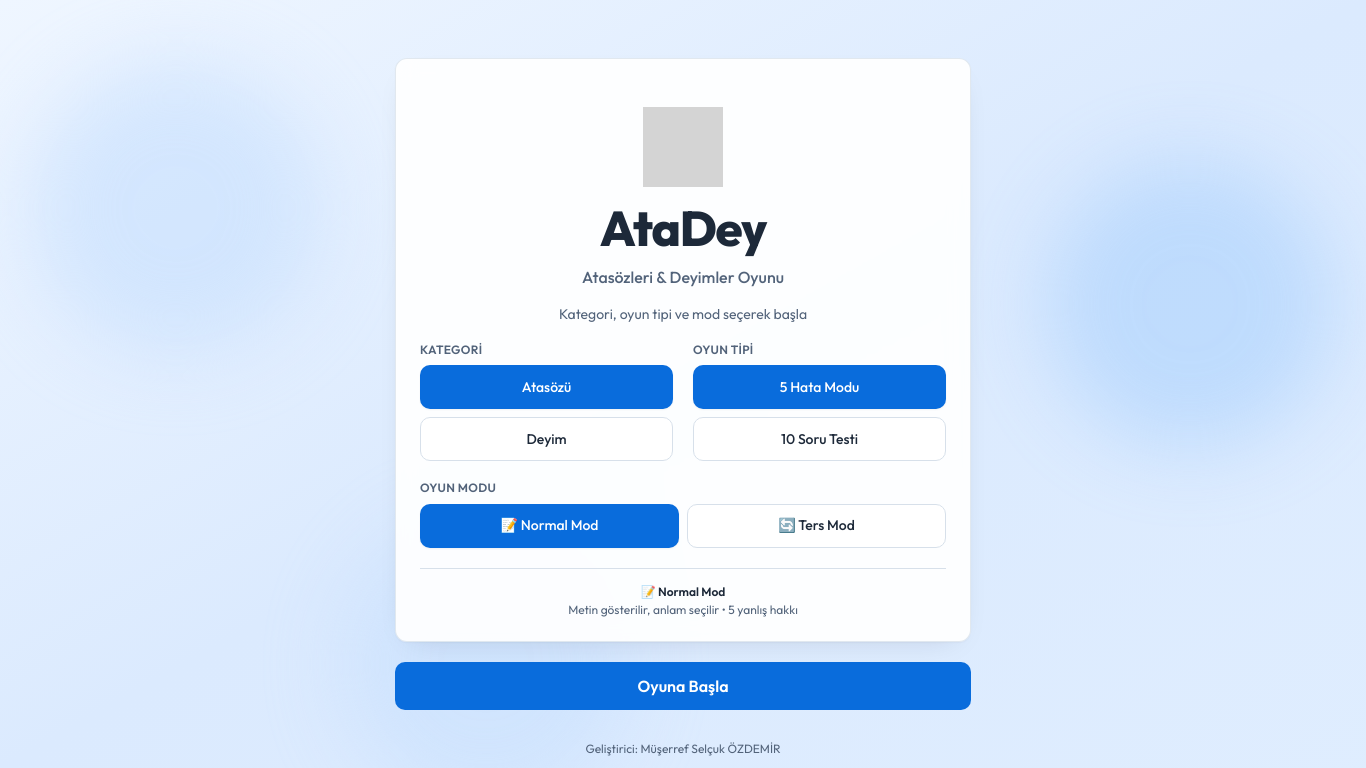
Scenario: App Integration Tests › Game Flow › should show hearts in mistakes mode
Select mistakes mode (should be default)
Click the button "Oyuna Başla" at (683, 686), box left=395, top=662, right=971, bottom=710
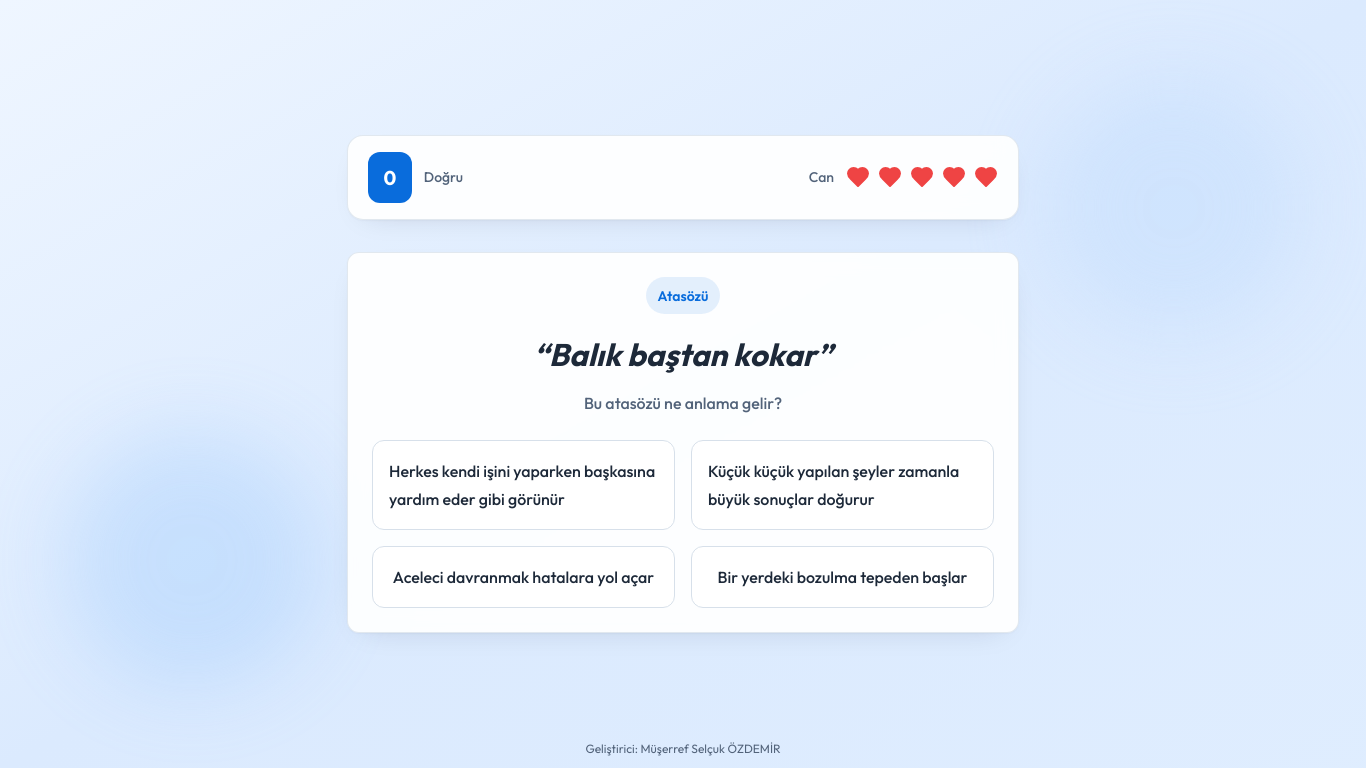
Expected: the 1st icon with class "lucide-heart" is shown, left=846, top=166, right=870, bottom=190
